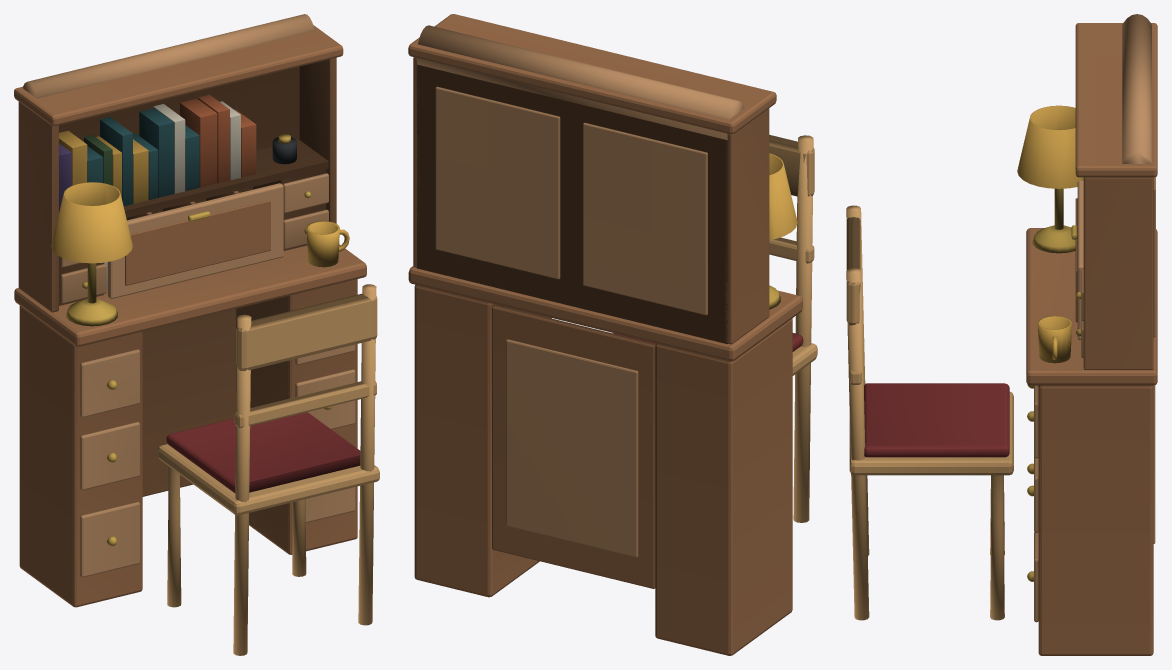
The model's file is writingBureau.glb.
3 renders of one model, left to right at view 1: azimuth 30°, elevation 25°; view 2: azimuth 150°, elevation 25°; view 3: azimuth 270°, elevation 25°, orthographic. The views are drawn at different scales.
Visible parts, largest first — view 1: body, flap; view 2: body; view 3: body, flap.
Boxes of the visible parts, bbox=[...] form: body: bbox=[14, 14, 379, 655]; flap: bbox=[107, 183, 283, 298]; body: bbox=[408, 14, 817, 655]; body: bbox=[846, 14, 1157, 655]; flap: bbox=[1071, 180, 1083, 339].
Bounding box in the file's own units: 0.852 × 1.35 × 0.758.
